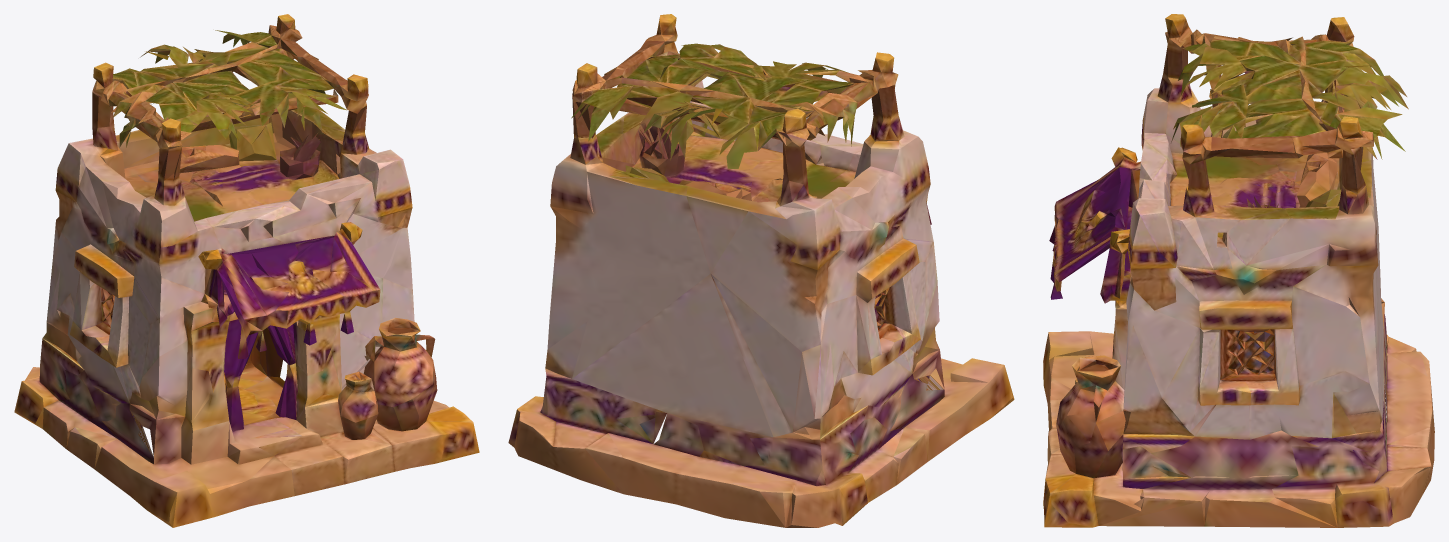
Rendered from house.glb.
3 views of the same model, side by side, from view 1: azimuth 30°, elevation 25°; view 2: azimuth 150°, elevation 25°; view 3: azimuth 270°, elevation 25° (orthographic). The views are drawn at different scales.
Bounding box in the file's own units: 1.77 × 1.9 × 1.77.
1 material, 1 textured.
